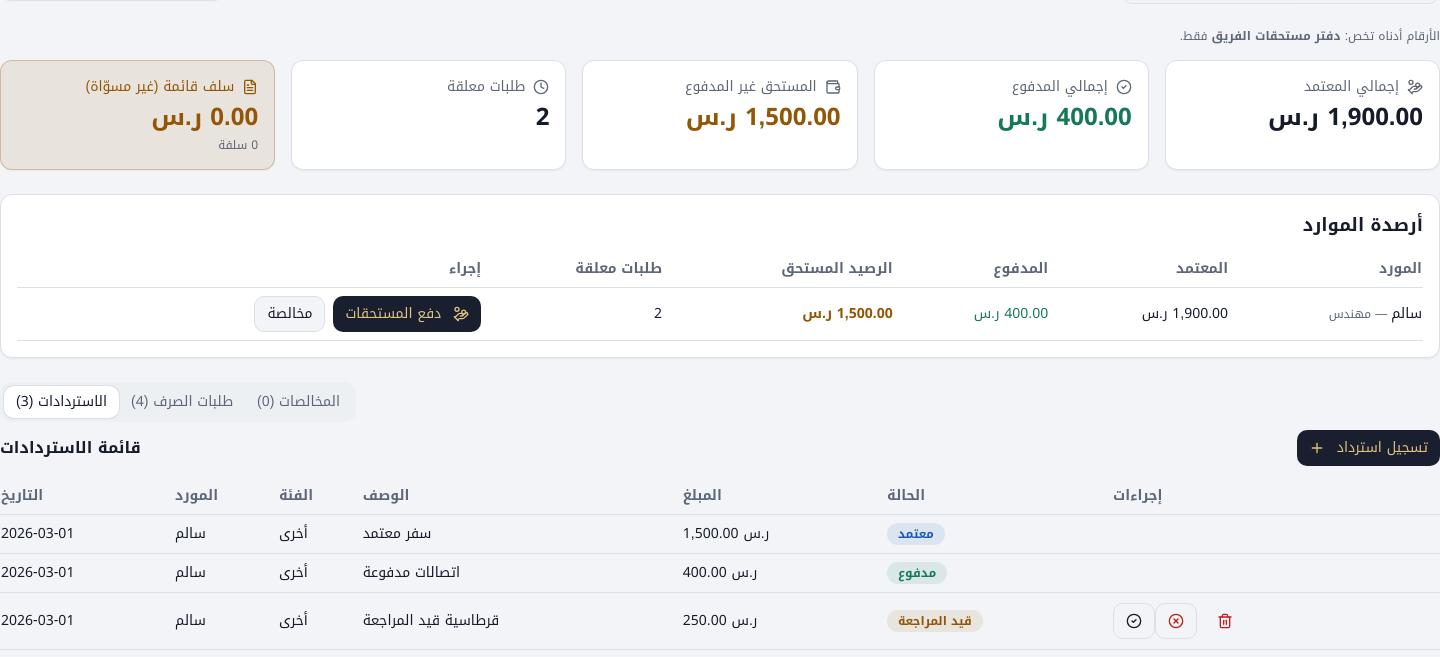
Test: the edit-links dialog › leaves a paid request's amount alone, whatever is re-linked
The width and height of the screenshot is (1440, 657).
Later steps or results of the test are not shown.
Press the mouse on the tab "طلبات الصرف (4)" at [182, 402], box x1=119 y1=386 x2=245 y2=418
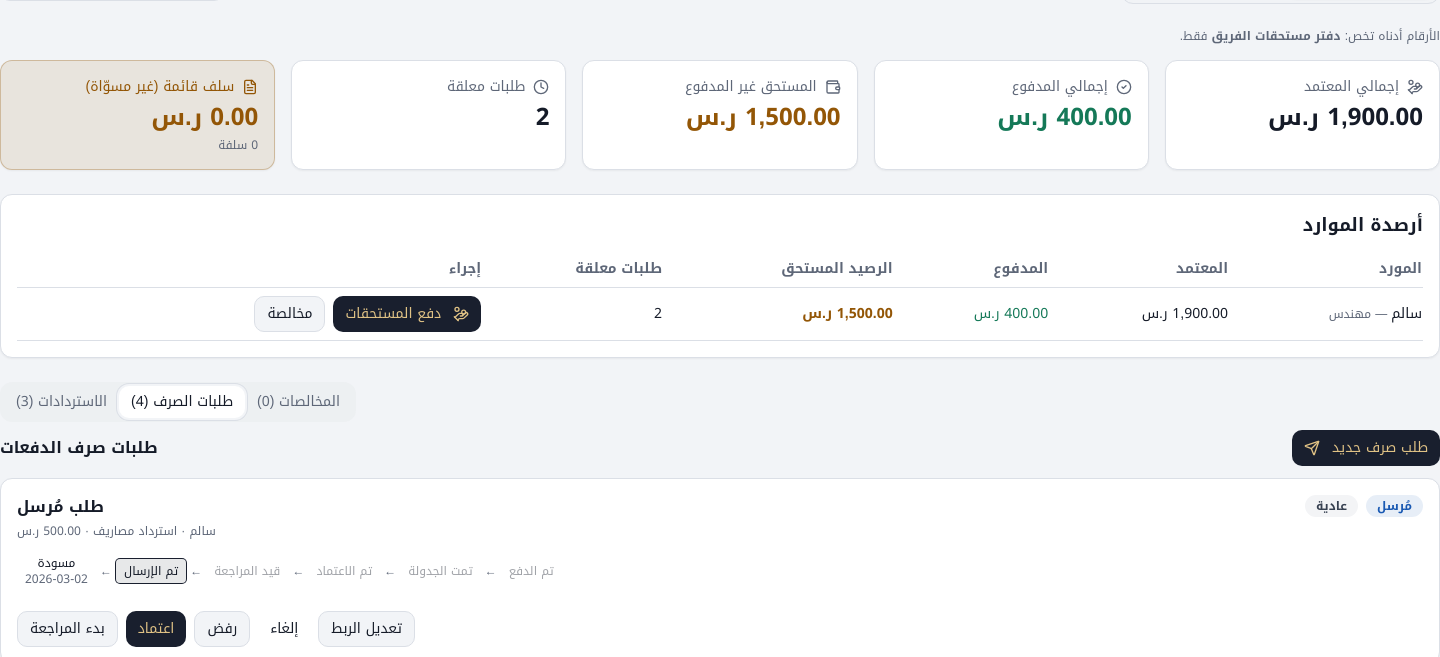
Click the tab "طلبات الصرف (4)".
click(182, 402)  # box x1=119 y1=386 x2=245 y2=418
(page scrolled)
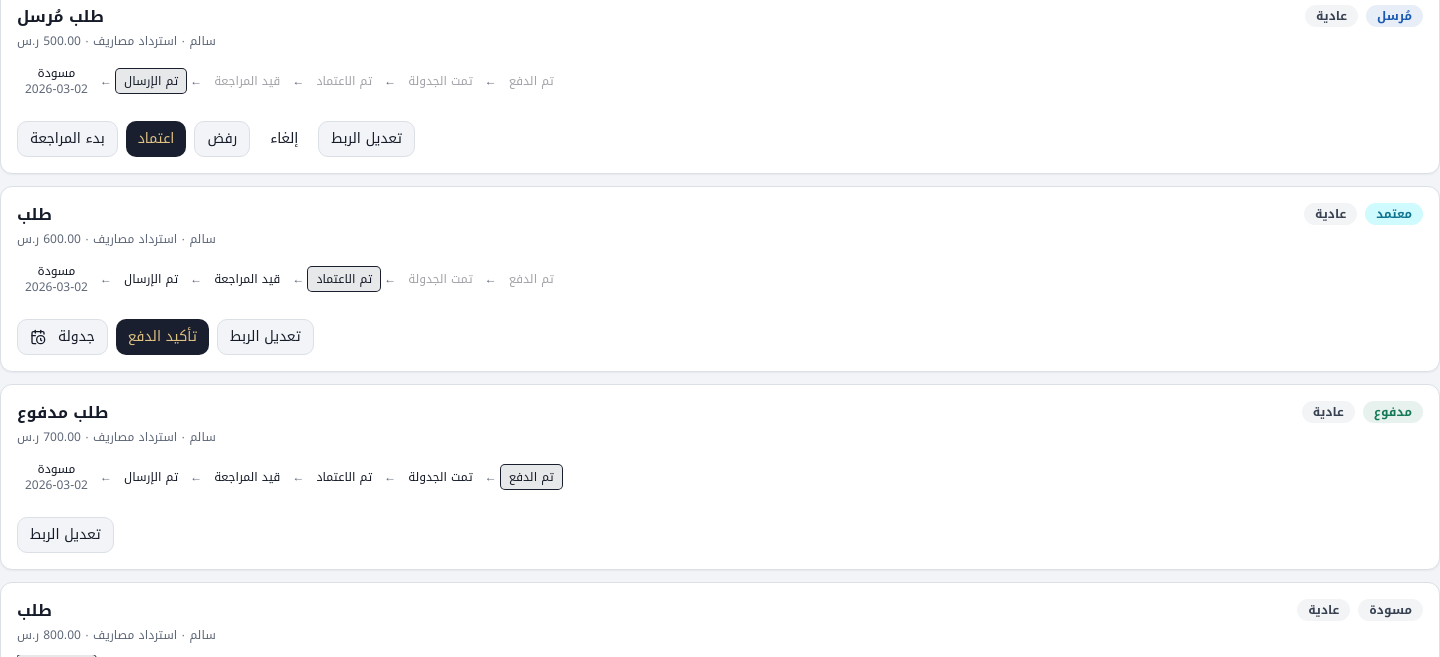
Click the button "تعديل الربط" below "700.00 ر.س".
click(65, 535)  # box x1=17 y1=517 x2=114 y2=553
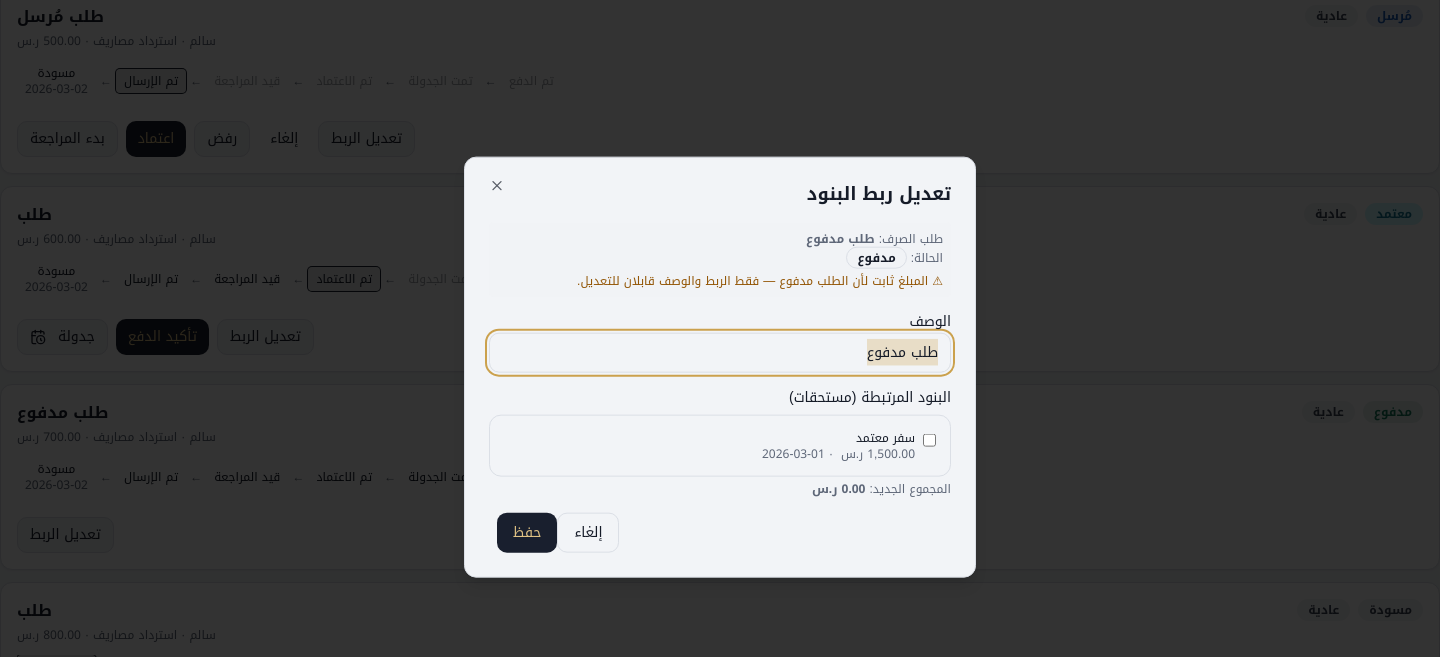
Now the text "المبلغ ثابت لأن الطلب مدفوع" is shown, box x1=577 y1=269 x2=943 y2=291
